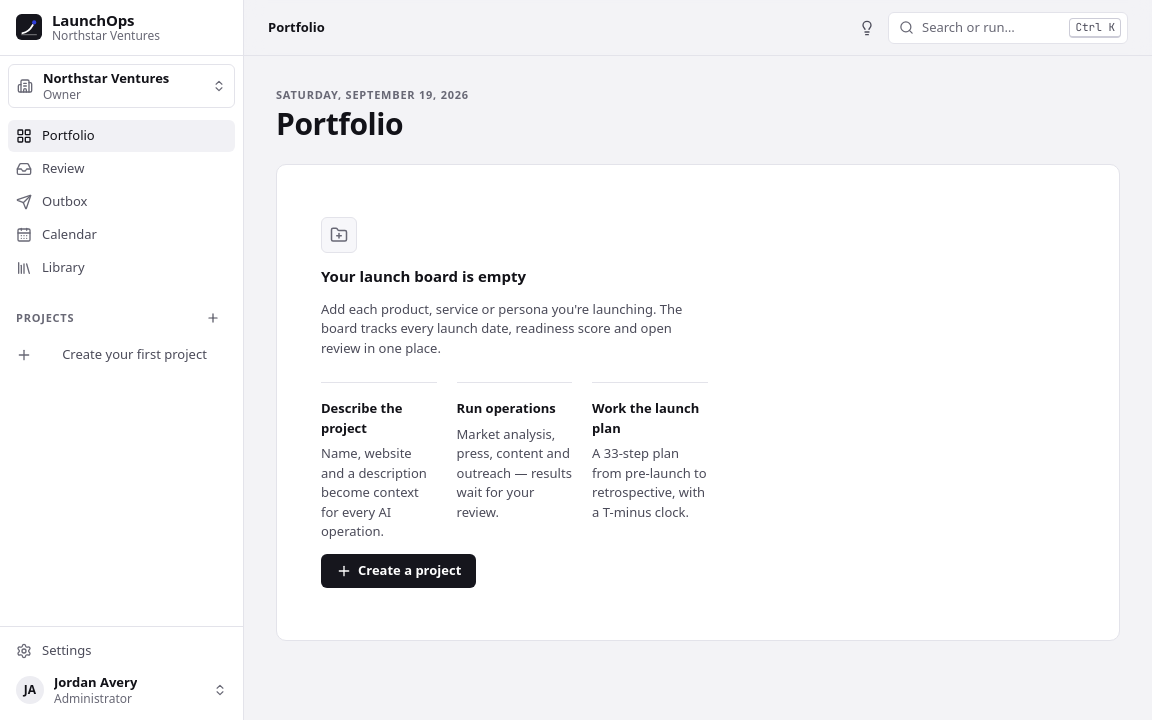
Session › tells someone whose account was disabled why they were signed out
The image size is (1152, 720).
Expected: the heading "Portfolio" is shown, [276, 103, 403, 144]
Click the link "Library" at [50, 267], box [16, 258, 85, 276]
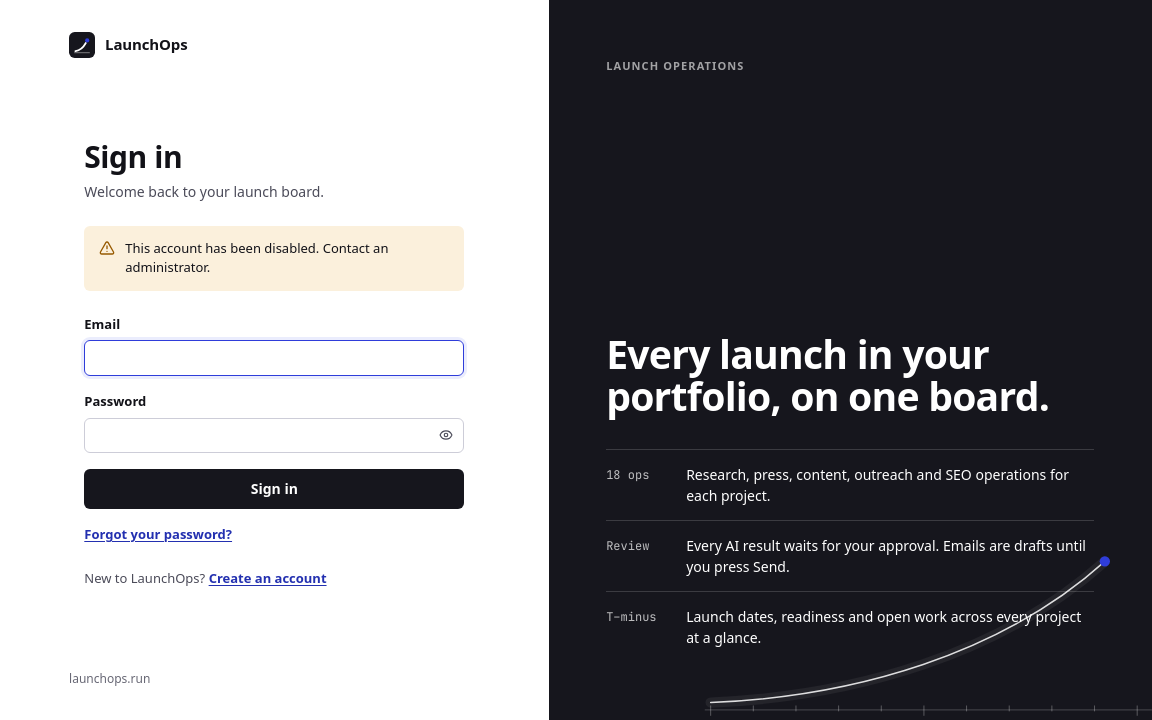
Now the heading "Sign in" is shown, box [84, 136, 182, 177]
Now the text "This account has been disabled. Contact an administrator." is shown, box [125, 239, 388, 276]
